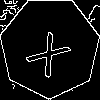X: (25, 22, 79, 79)
